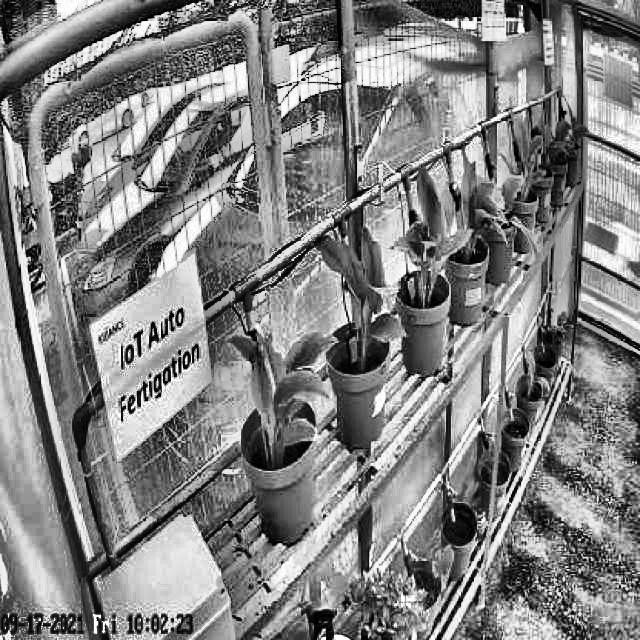plants: (228, 320, 334, 466), (310, 226, 407, 365), (394, 164, 474, 306), (443, 162, 512, 262)
